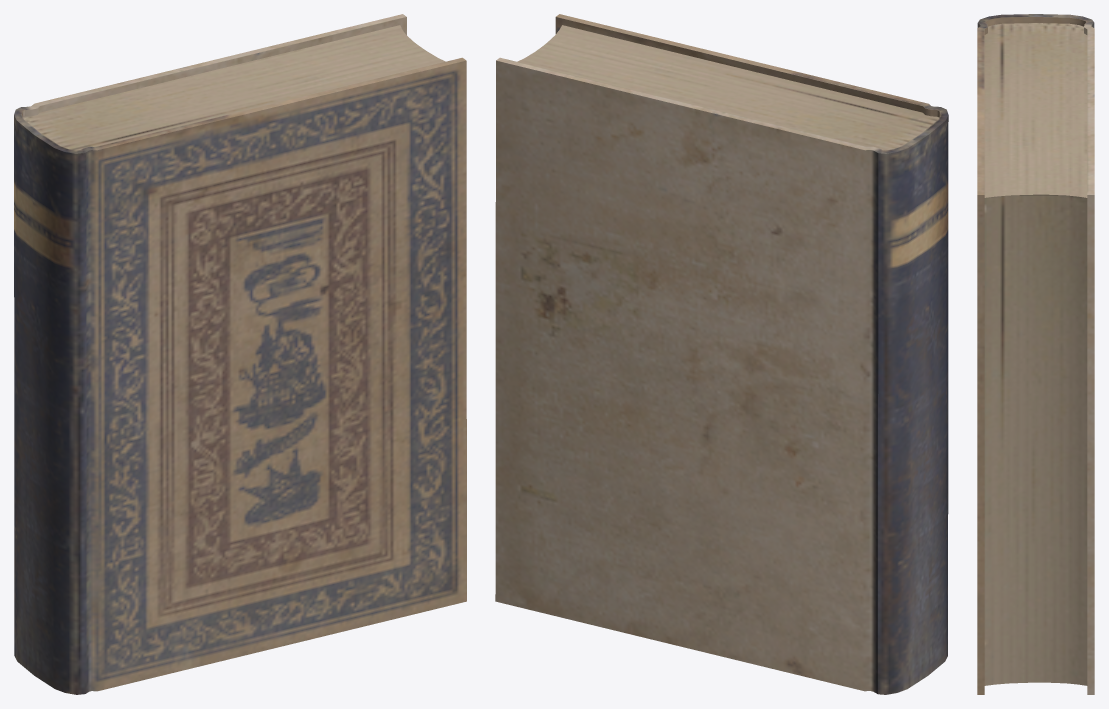
Rendered from Book.gltf.
3 renders of one model, left to right at view 1: azimuth 30°, elevation 25°; view 2: azimuth 150°, elevation 25°; view 3: azimuth 270°, elevation 25°, orthographic. The views are drawn at different scales.
Visible parts, largest first — view 1: [BuildingBlock] Book; view 2: [BuildingBlock] Book; view 3: [BuildingBlock] Book.
Part boxes in pixels (<box>): [BuildingBlock] Book: <box>14,14,466,694</box>; [BuildingBlock] Book: <box>495,14,948,694</box>; [BuildingBlock] Book: <box>977,14,1094,694</box>.
Size of the model in its own units: 0.1266 by 0.1632 by 0.0348.
Materials: 1 (1 with a texture image).
